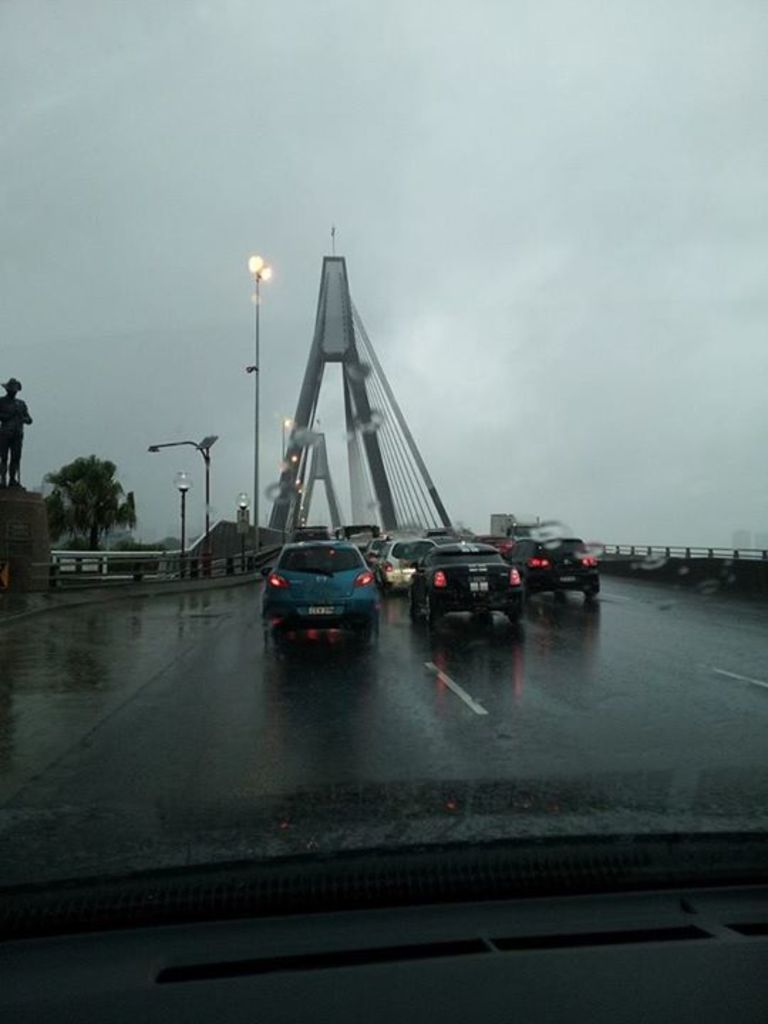Car: (0, 0, 766, 1022), (260, 526, 601, 642), (265, 537, 382, 638), (422, 540, 519, 621), (529, 531, 595, 594), (376, 531, 430, 584)
